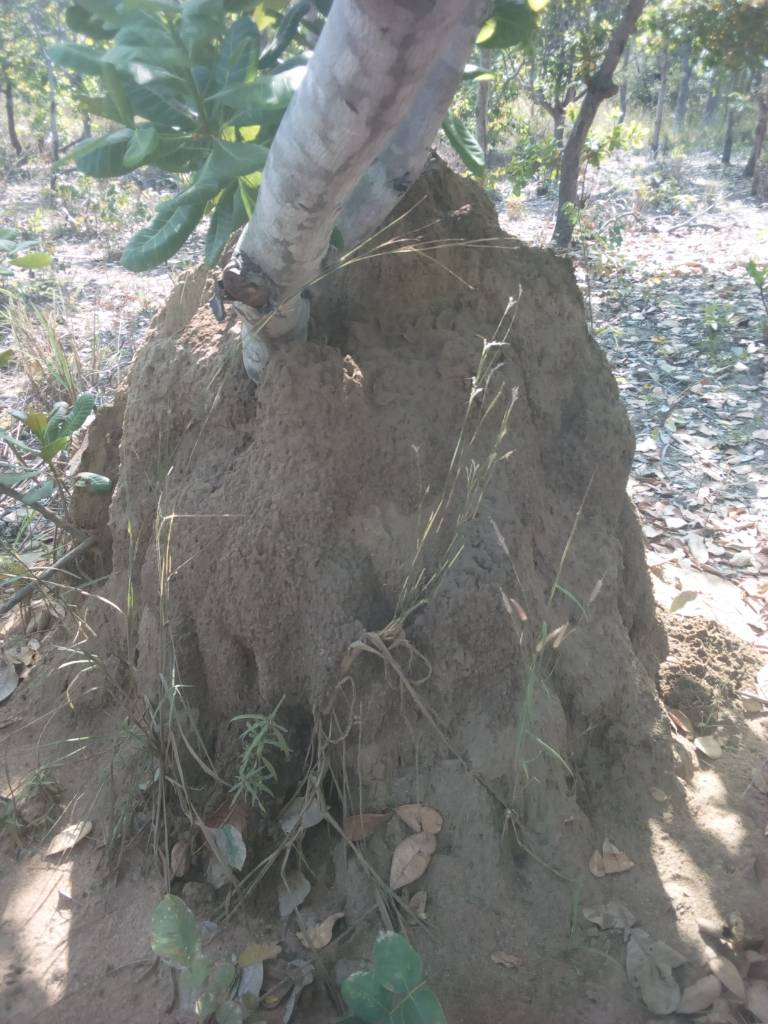Termites: (233, 177, 643, 1017), (75, 330, 216, 805)
